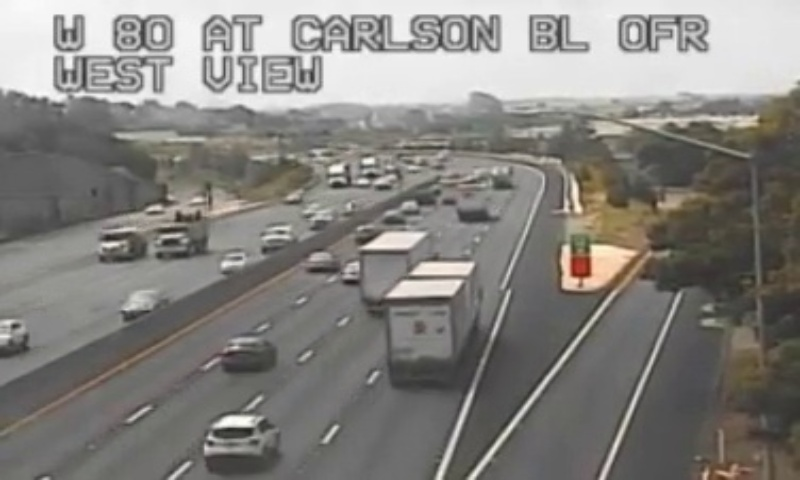car: (202, 415, 278, 465), (222, 337, 275, 370), (304, 251, 336, 271)
truck: (382, 259, 478, 386), (359, 229, 429, 313)
